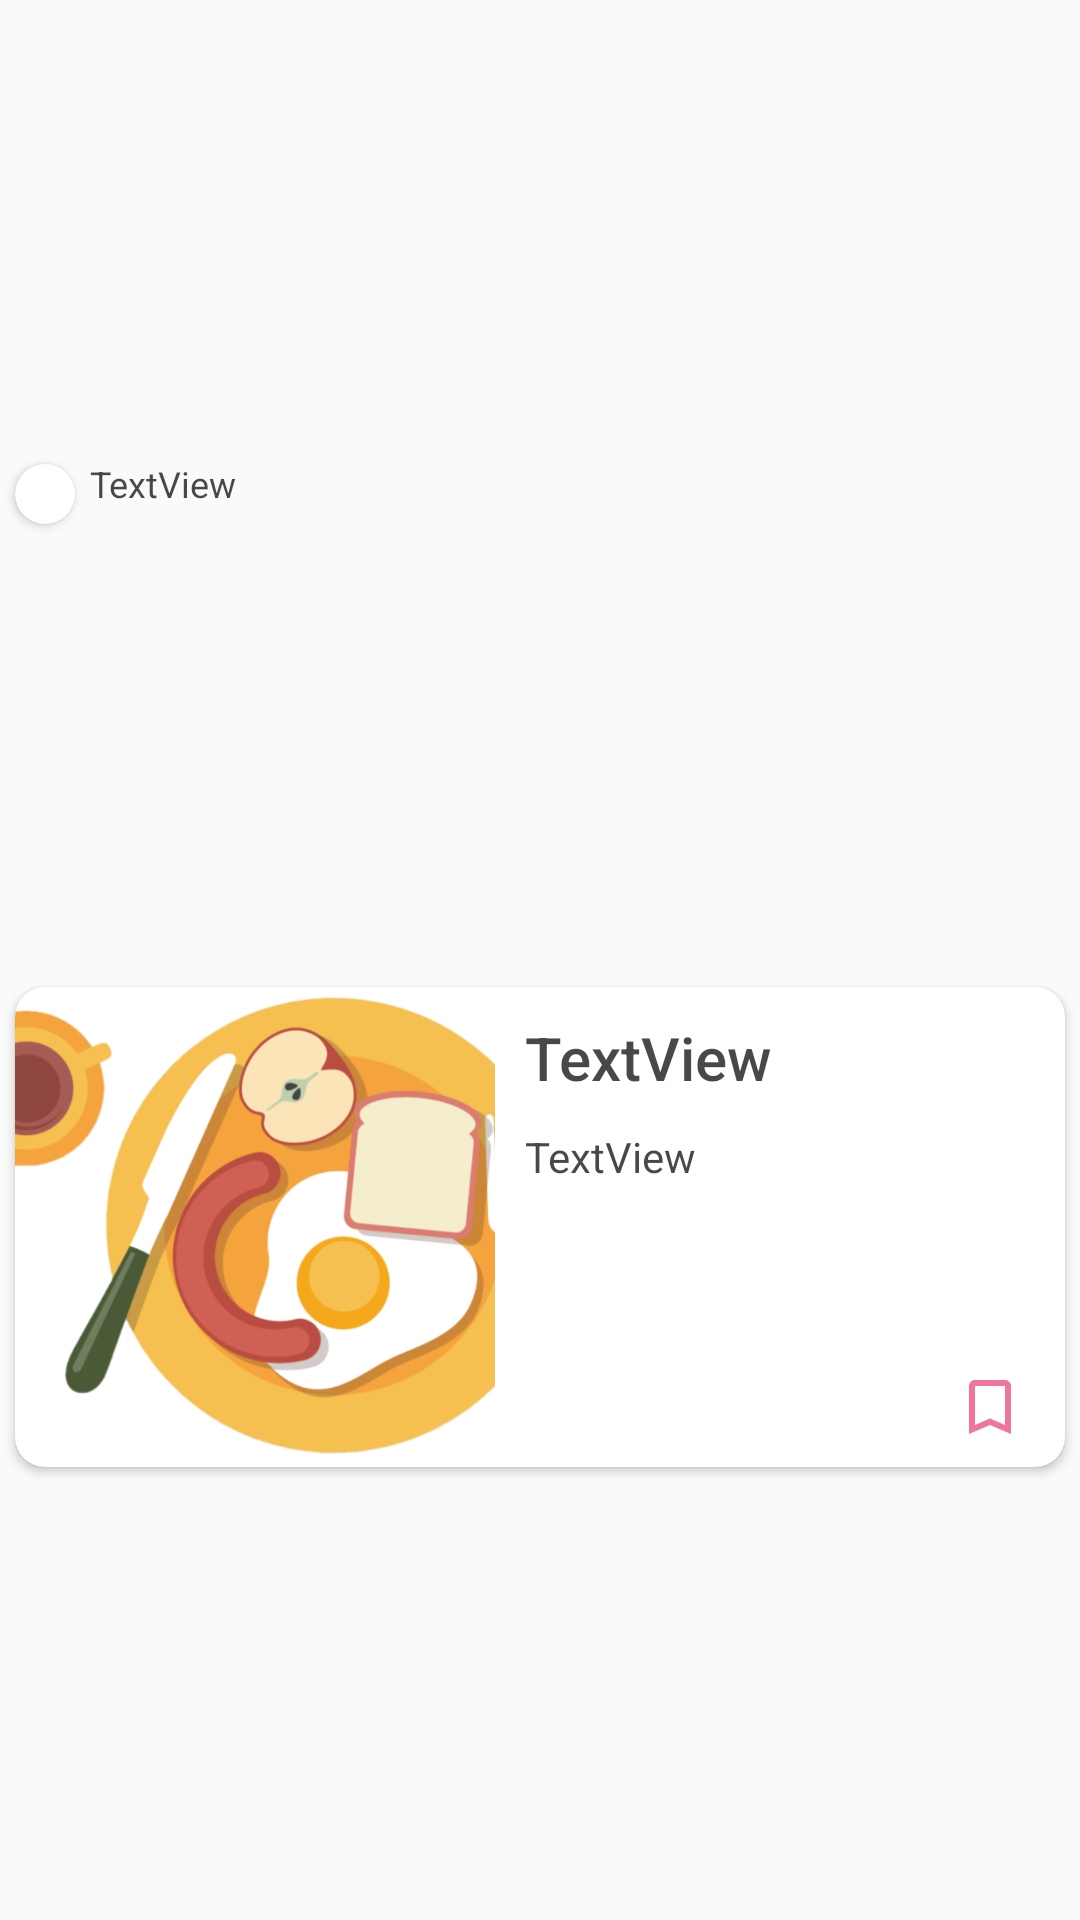

Point at icon controls on the screen. Image size 1080px x 1920px, points as (x,y).
favorite off: (990,1407)
